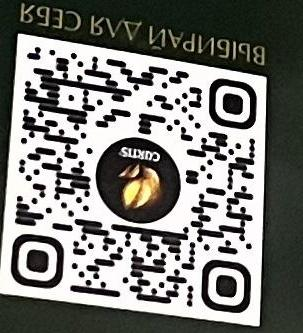qrcode: (11, 48, 258, 316)
